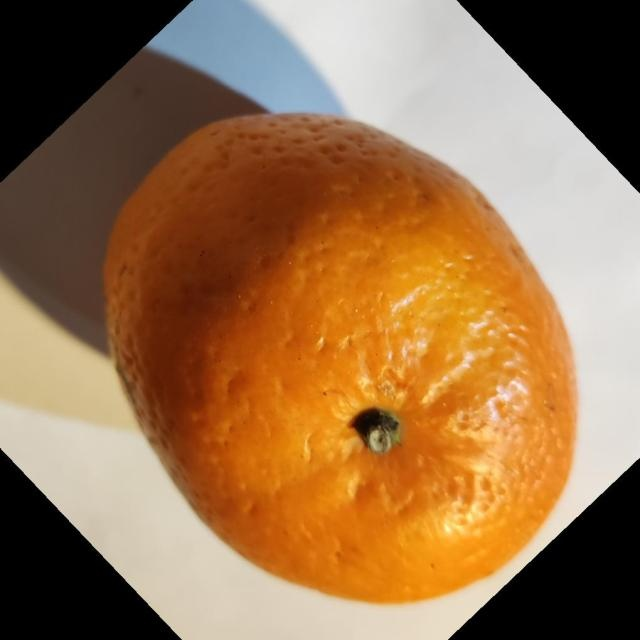agrume: (102, 110, 579, 604)
